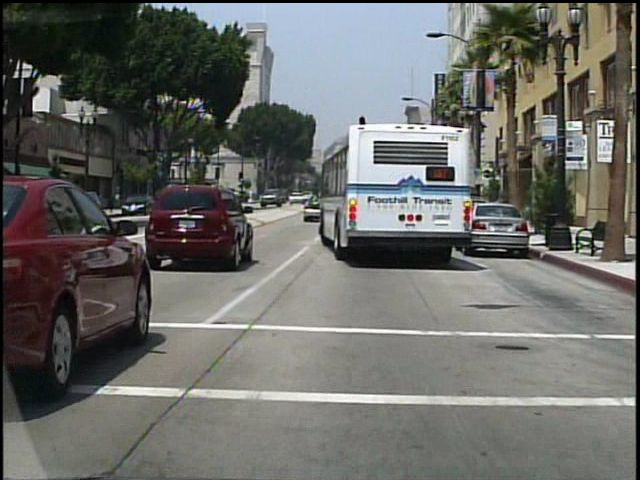person: (475, 183, 487, 226)
